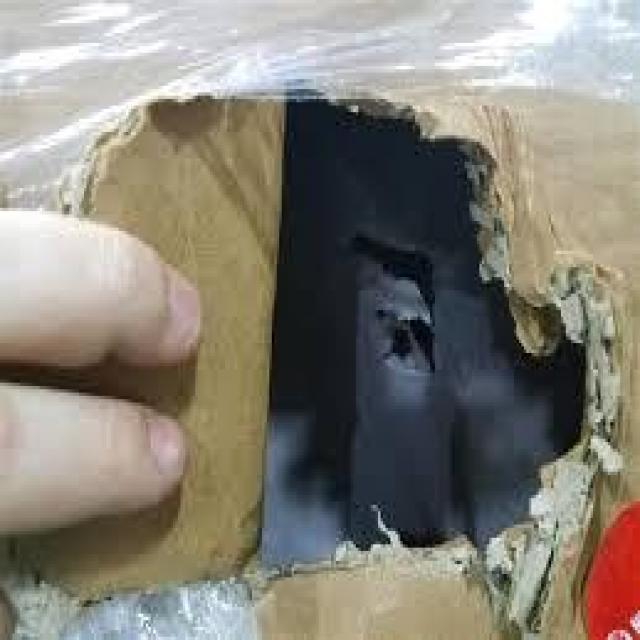damaged: (250, 102, 598, 594)
